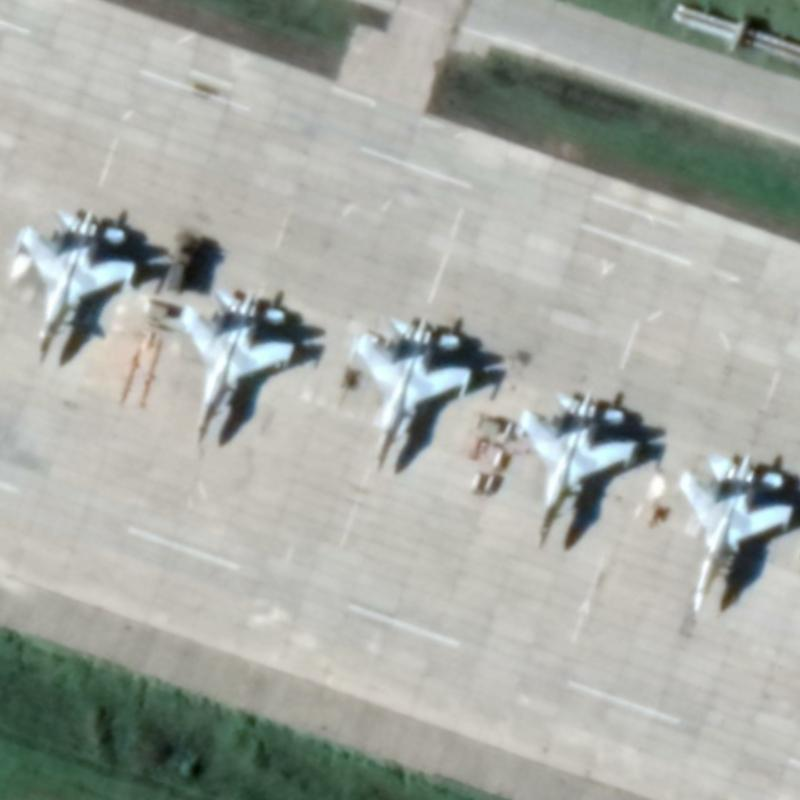A1: (175, 283, 300, 453), (345, 314, 474, 476), (672, 448, 795, 617), (11, 204, 138, 367), (514, 388, 639, 553)
